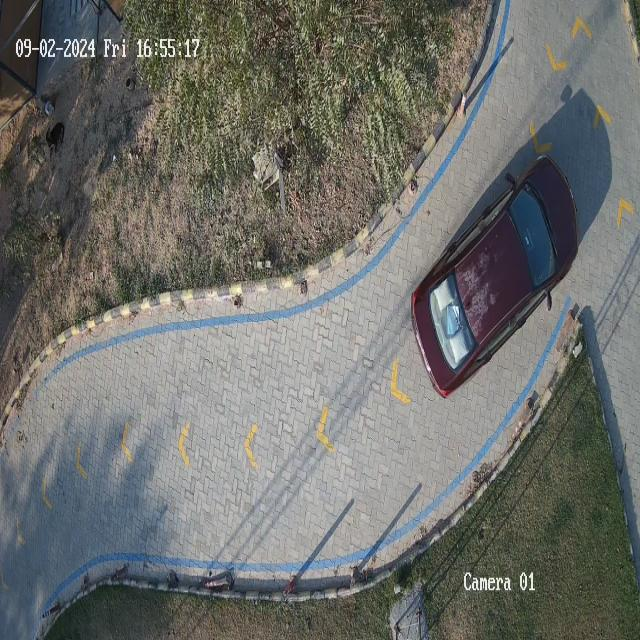car: (412, 158, 579, 398)
